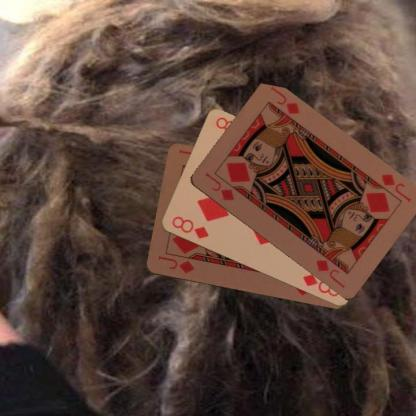8d: (168, 214, 210, 240)
Jd: (378, 170, 412, 204), (202, 170, 235, 202), (155, 253, 196, 275)
